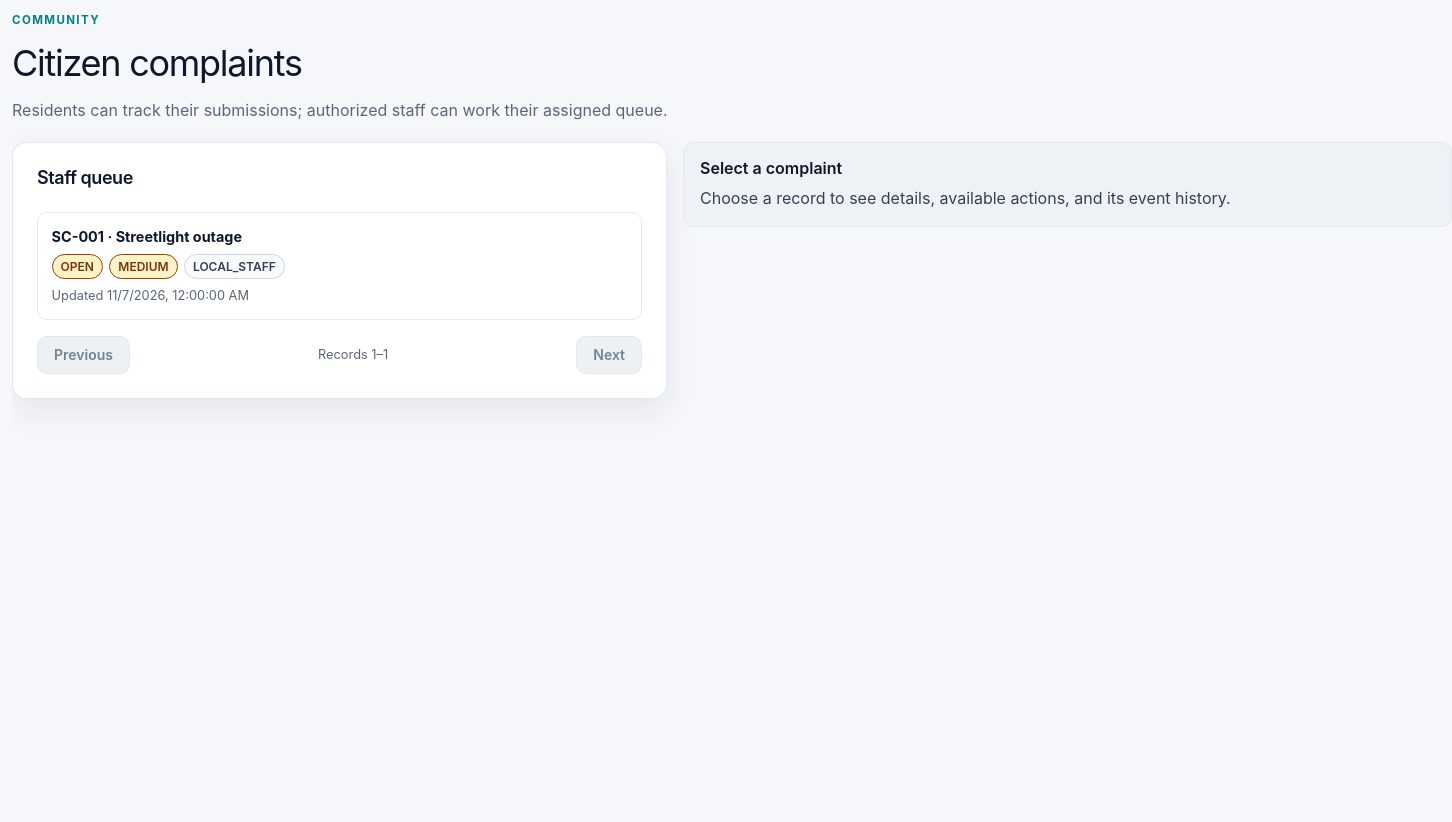
Test case: ComplaintsPage workflow actions › displays Unassigned when the authorized detail explicitly has no assignee
The image size is (1452, 822).
Click the button "SC-001".
click(78, 236)  # box [37,212,642,320]
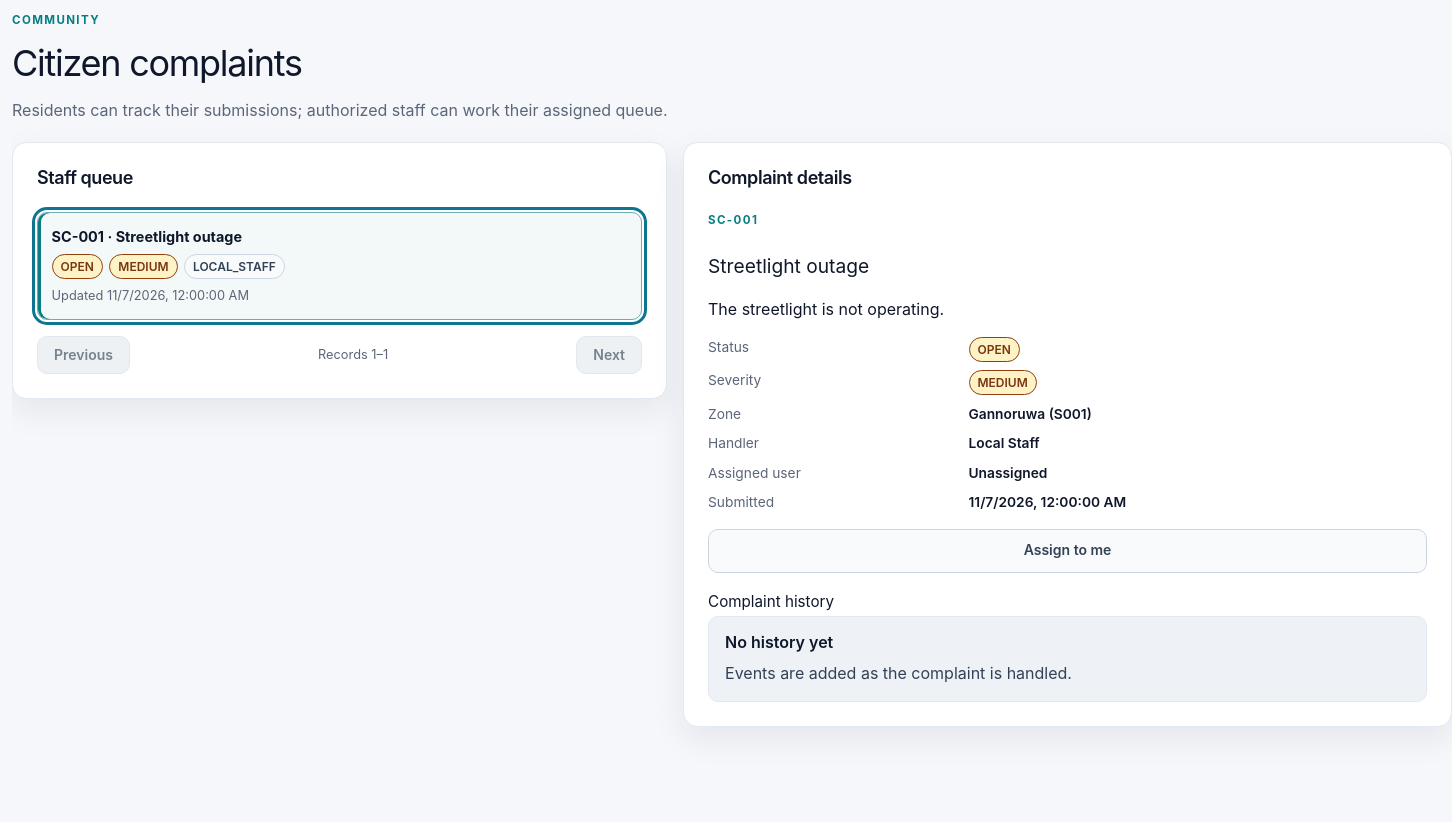
Now the text "Unassigned" is shown, box [968,465,1047,481]
